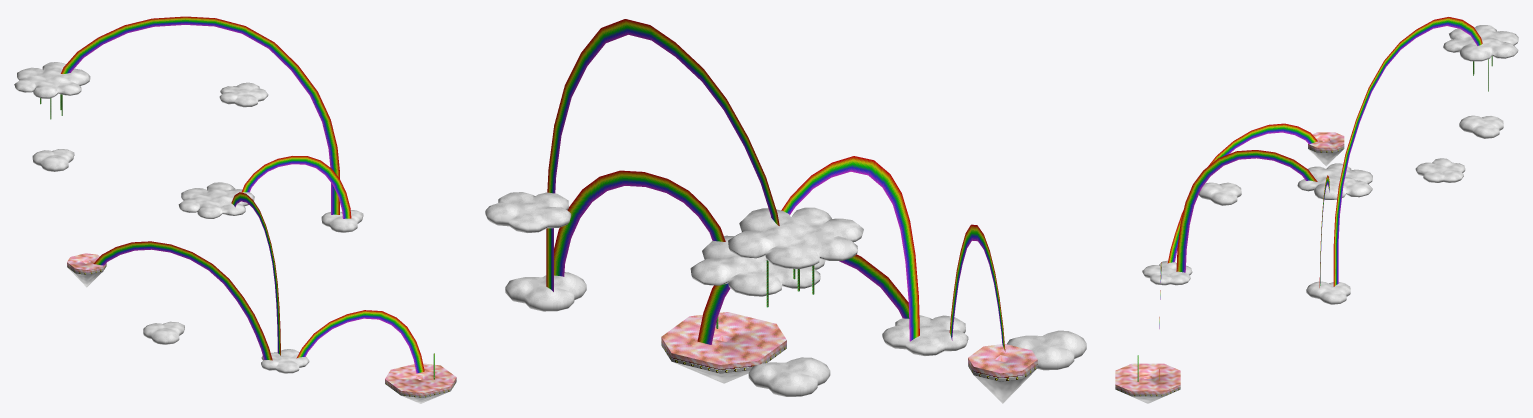
Rendered from WingMarioOvertheRainbow.dae.
3 views of the same model, side by side, from view 1: azimuth 30°, elevation 25°; view 2: azimuth 150°, elevation 25°; view 3: azimuth 270°, elevation 25° (orthographic). The views are drawn at different scales.
Visible parts, largest first — view 1: _004_geometry, _003_geometry, _002_geometry, _001_geometry; view 2: _003_geometry, _004_geometry, _002_geometry, _001_geometry; view 3: _003_geometry, _004_geometry, _002_geometry, _001_geometry.
Boxes of the visible parts, x1,y1,x2,y2 form: _004_geometry: (61,16,424,373); _003_geometry: (14,62,449,403); _002_geometry: (67,253,456,393); _001_geometry: (67,262,456,397); _003_geometry: (485,192,1086,403); _004_geometry: (546,19,1005,351); _002_geometry: (661,312,1037,373); _001_geometry: (661,337,1037,381); _003_geometry: (1119,25,1518,403); _004_geometry: (1159,17,1482,380); _002_geometry: (1115,132,1344,391); _001_geometry: (1115,144,1344,396).
Bounding box in the file's own units: 9748 × 10092 × 11344.
Materials: 5 (5 with a texture image).
